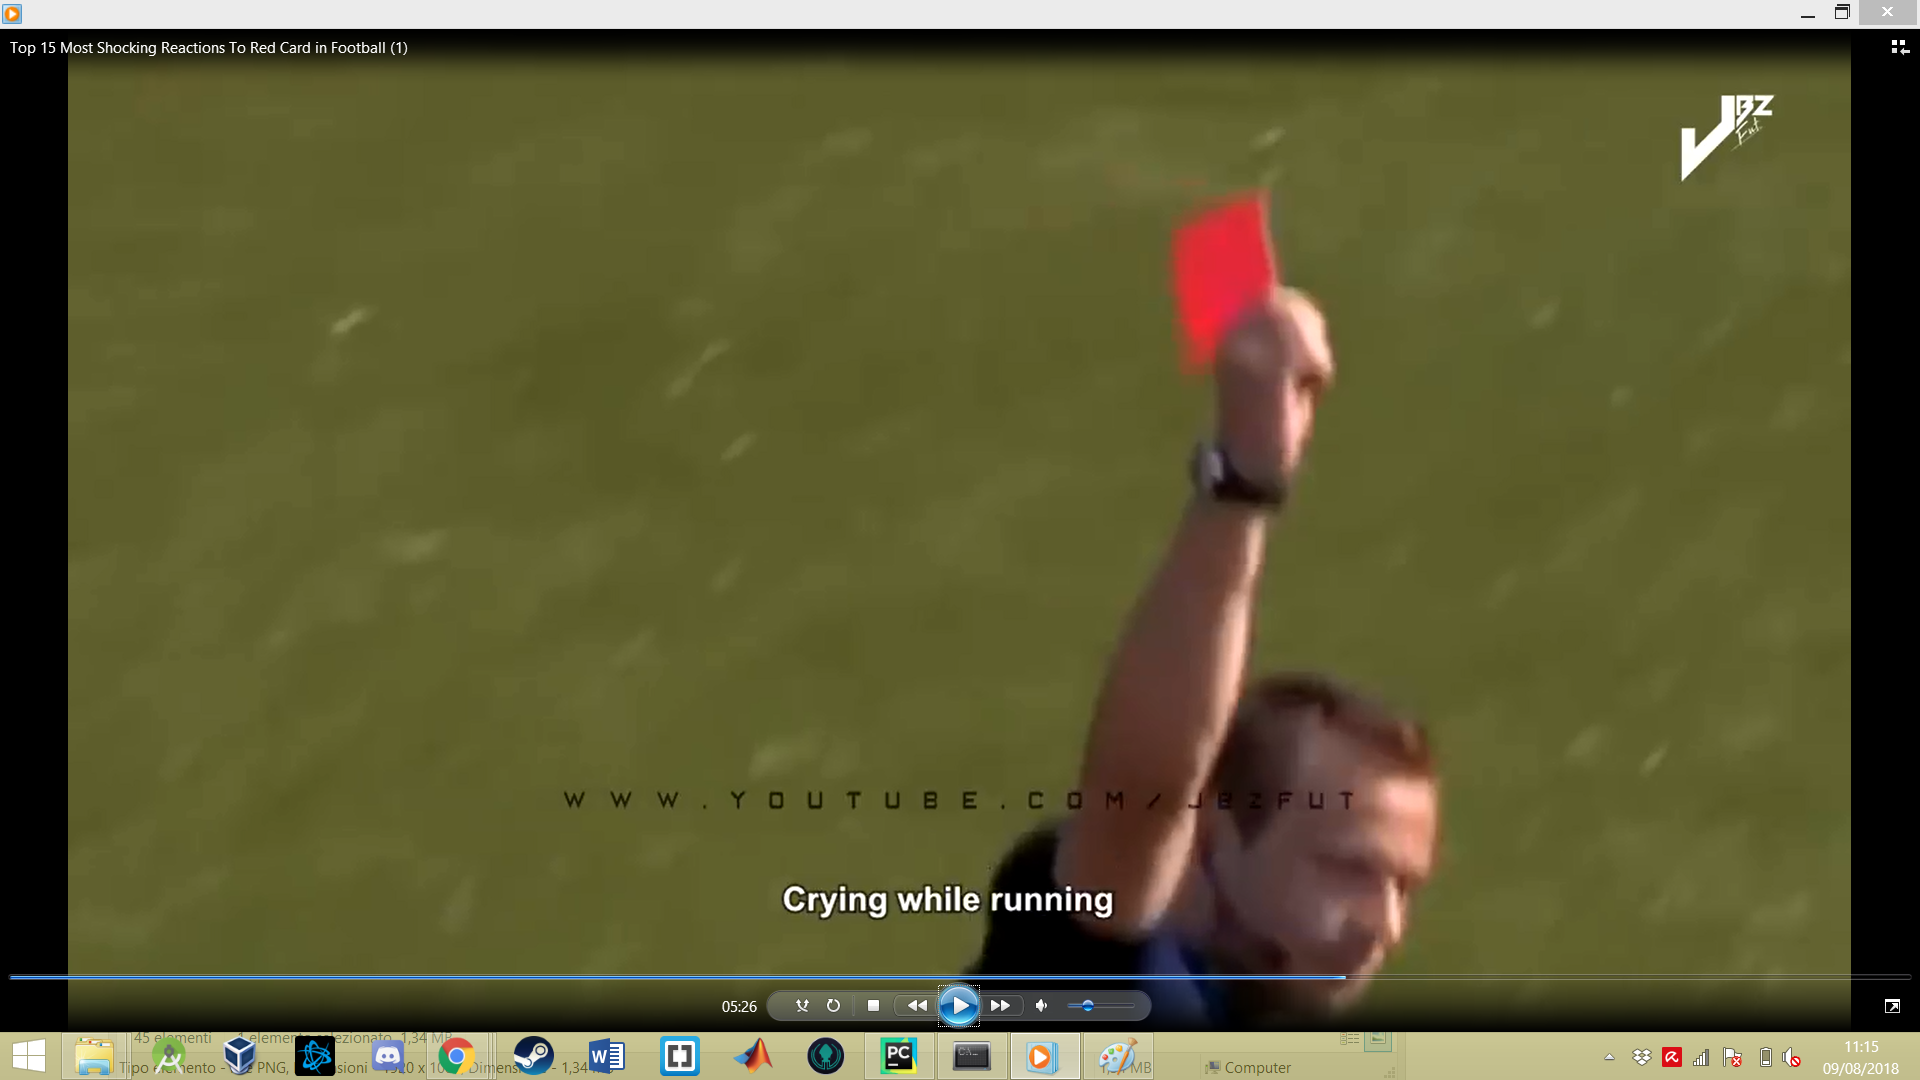red_card: (1149, 196, 1346, 450)
